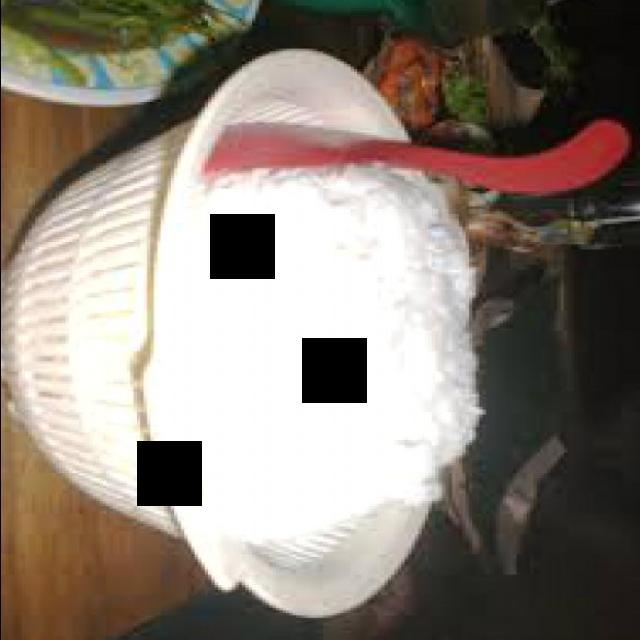rice: (178, 164, 480, 545)
